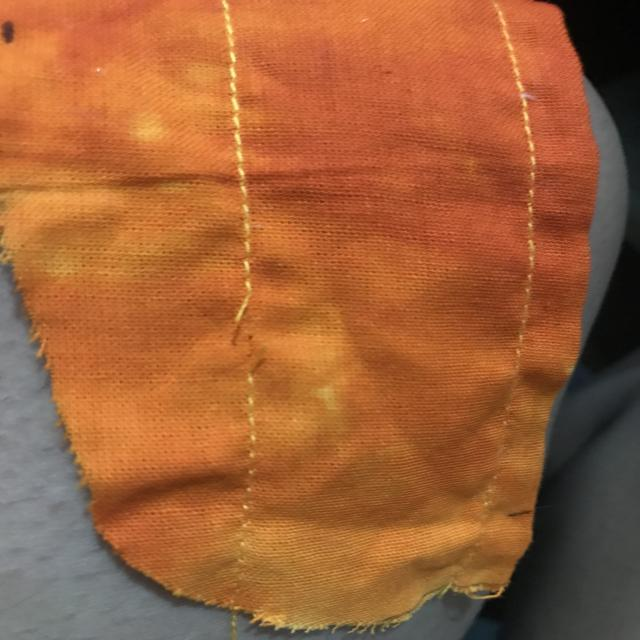Broken: (222, 276, 292, 398)
